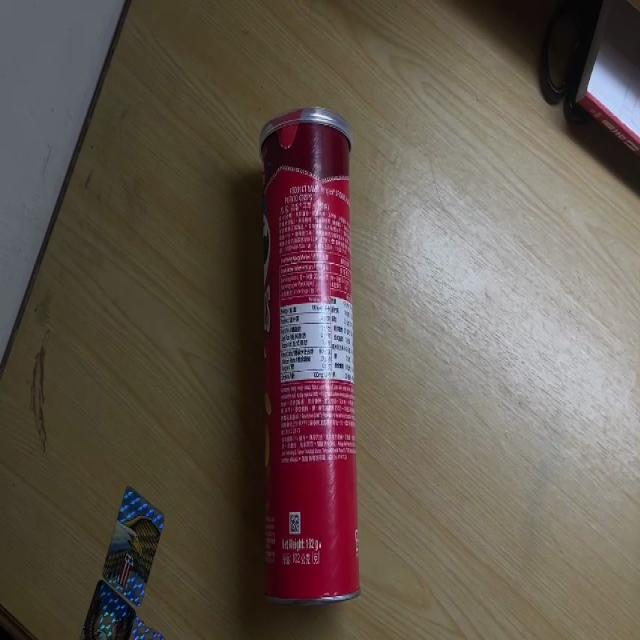Pringles: (261, 106, 360, 606)
